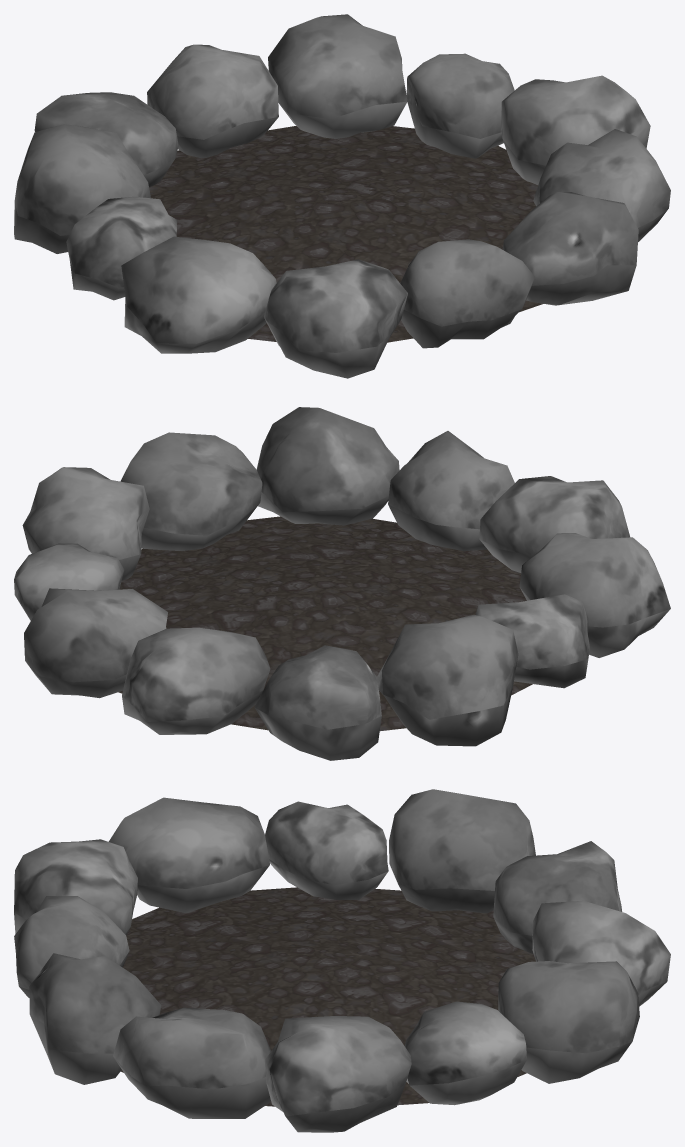
File: StoneRing01.fbx
3 views of the same model, one above another, from view 1: azimuth 30°, elevation 25°; view 2: azimuth 150°, elevation 25°; view 3: azimuth 270°, elevation 25° (orthographic). The views are drawn at different scales.
Parts seen in each view (by area): view 1: StoneRing01_LOD0; view 2: StoneRing01_LOD0; view 3: StoneRing01_LOD0.
Part boxes in pixels (x1,y1,x2,y2): StoneRing01_LOD0: [14, 14, 670, 378]; StoneRing01_LOD0: [14, 407, 670, 760]; StoneRing01_LOD0: [14, 789, 670, 1132].
Size of what is drawn, in the model's own units: 90.05 by 16.38 by 89.38.
